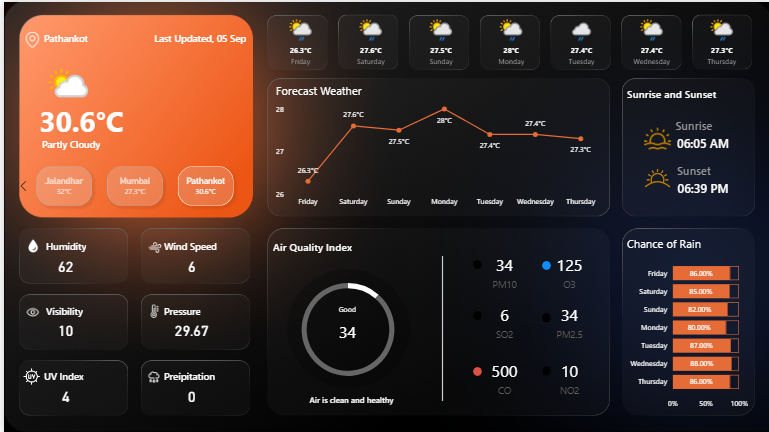

The dashboard page shown, as its layout file describes it:
{"tool":"powerbi","page":{"name":"Page 1","canvas":[1280,720],"ordinal":0},"visuals":[{"type":"shape","box":[471.7,445,205,198.3],"z":0},{"type":"advancedSlicerVisual","fields":{"Values":["Locations.location.name"]},"box":[16.7,256.7,405,100],"z":1000},{"type":"shape","box":[0,145.7,258.6,104.3],"z":2000},{"type":"shape","box":[62.9,220,318.6,35.7],"z":3000},{"type":"shape","box":[67.1,42.9,160,34.3],"z":4000},{"type":"shape","box":[194.3,42.9,208.6,34.3],"z":5000},{"type":"image","box":[22.9,44.3,47.1,35.7],"z":6000},{"type":"cardVisual","fields":{"Data":["Min(current.current.condition.icon)"]},"box":[47.1,82.9,102.9,90],"z":7000},{"type":"shape","box":[70,390,131.4,34.3],"z":8000},{"type":"image","box":[24.3,500,45.7,34.3],"z":9000},{"type":"shape","box":[70,498.6,131.4,34.3],"z":10000},{"type":"image","box":[25,390,46.7,33.3],"z":11000},{"type":"image","box":[26.9,601.4,38.6,45.4],"z":12000},{"type":"shape","box":[67.1,607.1,131.4,34.3],"z":13000},{"type":"image","box":[234.3,391.4,32.9,34.3],"z":14000},{"type":"shape","box":[267.1,390,131.4,34.3],"z":15000},{"type":"image","box":[234.4,498.9,32.2,34.4],"z":16000},{"type":"image","box":[233.3,606.7,33.3,37.8],"z":17000},{"type":"shape","box":[266.7,497.8,131.1,34.4],"z":18000},{"type":"shape","box":[266.7,606.7,131.1,35.6],"z":19000},{"type":"card","fields":{"Values":["Sum(current.current.humidity)"]},"box":[48.6,410,108.6,60],"z":20000},{"type":"card","fields":{"Values":["Sum(current.current.wind_kph)"]},"box":[258.6,410,108.6,60],"z":21000},{"type":"card","fields":{"Values":["Sum(current.current.pressure_in)"]},"box":[258.6,517.1,108.6,60],"z":22000},{"type":"card","fields":{"Values":["Sum(current.current.vis_km)"]},"box":[48.6,517.1,108.6,60],"z":23000},{"type":"card","fields":{"Values":["Sum(current.current.uv)"]},"box":[48.6,627.1,108.6,60],"z":24000},{"type":"card","fields":{"Values":["Sum(current.current.precip_in)"]},"box":[258.9,626.7,108.9,60],"z":25000},{"type":"advancedSlicerVisual","fields":{"Values":["forecast day.day_name"]},"box":[435,16.7,825,105],"z":26000},{"type":"lineChart","title":"Forecast Weather","fields":{"Y":["Sum(forecast day.forecast.forecastday.day.avgtemp_c)"],"Category":["forecast day.day_name"]},"box":[448.3,135,548.3,215],"z":27000},{"type":"shape","box":[1038.3,135,196.7,35],"z":28000},{"type":"shape","box":[1070,200.6,190,70],"z":29000},{"type":"shape","box":[1070,275.6,190,71.7],"z":30000},{"type":"shape","box":[1054.2,170,190,70],"z":31000},{"type":"shape","box":[1054.2,245,190,71.7],"z":32000},{"type":"image","box":[1046.7,260,85,66.7],"z":33000},{"type":"image","box":[1046.7,200,85,55],"z":34000},{"type":"hundredPercentStackedBarChart","title":"Chance of Rain","fields":{"Y":["Sum(forecast day.forecast.forecastday.day.daily_chance_of_rain)","current.Left_Value_Rain"],"Category":["forecast day.day_name"]},"box":[1033.3,390,211.7,296.7],"z":35000},{"type":"shape","box":[448.3,390,196.7,35],"z":36000},{"type":"card","fields":{"Values":["Sum(current.current.air_quality.o3)"]},"box":[888.3,410,108.3,78.3],"z":37000},{"type":"card","fields":{"Values":["Sum(current.current.air_quality.no2)"]},"box":[888.3,586.7,108.3,78.3],"z":38000},{"type":"card","fields":{"Values":["Sum(current.current.air_quality.pm2_5)"]},"box":[888.3,493.3,108.3,78.3],"z":39000},{"type":"card","fields":{"Values":["Sum(current.current.air_quality.pm10)"]},"box":[780,410,108.3,78.3],"z":40000},{"type":"card","fields":{"Values":["Sum(current.current.air_quality.so2)"]},"box":[780,493.3,108.3,78.3],"z":41000},{"type":"card","fields":{"Values":["Sum(current.current.air_quality.co)"]},"box":[780,586.7,108.3,78.3],"z":42000},{"type":"shape","box":[781.7,430,15,15],"z":43000},{"type":"shape","box":[781.7,515,15,15],"z":44000},{"type":"shape","box":[781.7,608.3,15,15],"z":45000},{"type":"shape","box":[896.7,431.7,15,15],"z":46000},{"type":"shape","box":[896.5,517.9,14.8,16.4],"z":47000},{"type":"shape","box":[896.5,606.4,14.8,16.4],"z":48000},{"type":"shape","box":[676.7,423.3,108.3,241.7],"z":49000},{"type":"card","fields":{"Values":["Sum(current.current.air_quality.pm10)"]},"box":[518.3,503.3,108.3,78.3],"z":50000},{"type":"donutChart","fields":{"Y":["Sum(current.current.air_quality.pm10)","_Measures.Left_Value_pm10"]},"box":[471.7,426.7,203.3,238.3],"z":51000},{"type":"shape","box":[446.7,638.3,265,48.3],"z":51001}]}

Visuals, with their boxes in screenshot pixels (x1, y1, x2, y2), scaled from the page's 1280x720 canvas onto the 769x432 screenshot:
shape: (x1=283, y1=267, x2=407, y2=386)
advancedSlicerVisual - Locations.location.name: (x1=10, y1=154, x2=253, y2=214)
shape: (x1=0, y1=87, x2=155, y2=150)
shape: (x1=38, y1=132, x2=229, y2=153)
shape: (x1=40, y1=26, x2=136, y2=46)
shape: (x1=117, y1=26, x2=242, y2=46)
image: (x1=14, y1=27, x2=42, y2=48)
cardVisual - Min(current.current.condition.icon): (x1=28, y1=50, x2=90, y2=104)
shape: (x1=42, y1=234, x2=121, y2=255)
image: (x1=15, y1=300, x2=42, y2=321)
shape: (x1=42, y1=299, x2=121, y2=320)
image: (x1=15, y1=234, x2=43, y2=254)
image: (x1=16, y1=361, x2=39, y2=388)
shape: (x1=40, y1=364, x2=119, y2=385)
image: (x1=141, y1=235, x2=161, y2=255)
shape: (x1=160, y1=234, x2=239, y2=255)
image: (x1=141, y1=299, x2=160, y2=320)
image: (x1=140, y1=364, x2=160, y2=387)
shape: (x1=160, y1=299, x2=239, y2=319)
shape: (x1=160, y1=364, x2=239, y2=385)
card - Sum(current.current.humidity): (x1=29, y1=246, x2=94, y2=282)
card - Sum(current.current.wind_kph): (x1=155, y1=246, x2=221, y2=282)
card - Sum(current.current.pressure_in): (x1=155, y1=310, x2=221, y2=346)
card - Sum(current.current.vis_km): (x1=29, y1=310, x2=94, y2=346)
card - Sum(current.current.uv): (x1=29, y1=376, x2=94, y2=412)
card - Sum(current.current.precip_in): (x1=156, y1=376, x2=221, y2=412)
advancedSlicerVisual - forecast day.day_name: (x1=261, y1=10, x2=757, y2=73)
"Forecast Weather" lineChart: (x1=269, y1=81, x2=599, y2=210)
shape: (x1=624, y1=81, x2=742, y2=102)
shape: (x1=643, y1=120, x2=757, y2=162)
shape: (x1=643, y1=165, x2=757, y2=208)
shape: (x1=633, y1=102, x2=747, y2=144)
shape: (x1=633, y1=147, x2=747, y2=190)
image: (x1=629, y1=156, x2=680, y2=196)
image: (x1=629, y1=120, x2=680, y2=153)
"Chance of Rain" hundredPercentStackedBarChart: (x1=621, y1=234, x2=748, y2=412)
shape: (x1=269, y1=234, x2=388, y2=255)
card - Sum(current.current.air_quality.o3): (x1=534, y1=246, x2=599, y2=293)
card - Sum(current.current.air_quality.no2): (x1=534, y1=352, x2=599, y2=399)
card - Sum(current.current.air_quality.pm2_5): (x1=534, y1=296, x2=599, y2=343)
card - Sum(current.current.air_quality.pm10): (x1=469, y1=246, x2=534, y2=293)
card - Sum(current.current.air_quality.so2): (x1=469, y1=296, x2=534, y2=343)
card - Sum(current.current.air_quality.co): (x1=469, y1=352, x2=534, y2=399)
shape: (x1=470, y1=258, x2=479, y2=267)
shape: (x1=470, y1=309, x2=479, y2=318)
shape: (x1=470, y1=365, x2=479, y2=374)
shape: (x1=539, y1=259, x2=548, y2=268)
shape: (x1=539, y1=311, x2=547, y2=321)
shape: (x1=539, y1=364, x2=547, y2=374)
shape: (x1=407, y1=254, x2=472, y2=399)
card - Sum(current.current.air_quality.pm10): (x1=311, y1=302, x2=376, y2=349)
donutChart - Sum(current.current.air_quality.pm10) x _Measures.Left_Value_pm10: (x1=283, y1=256, x2=406, y2=399)
shape: (x1=268, y1=383, x2=428, y2=412)
